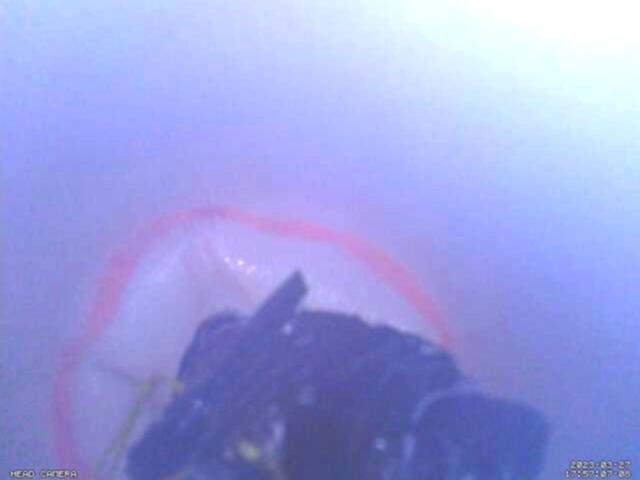head: (49, 203, 460, 480)
